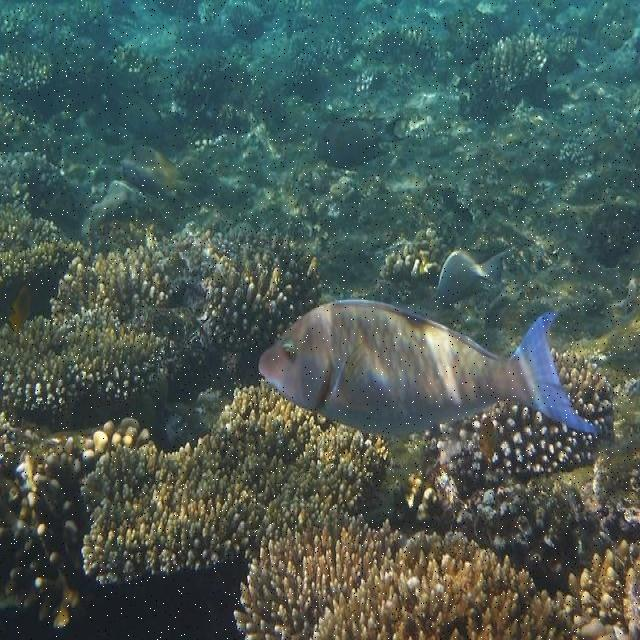fish: (258, 298, 603, 439), (433, 236, 513, 310), (312, 116, 410, 171), (120, 145, 203, 205), (9, 286, 35, 333), (477, 415, 500, 456)
reefs: (81, 379, 577, 639), (0, 218, 323, 432), (385, 348, 639, 600), (0, 408, 155, 629), (0, 149, 86, 290), (555, 539, 639, 639), (376, 228, 449, 289)
